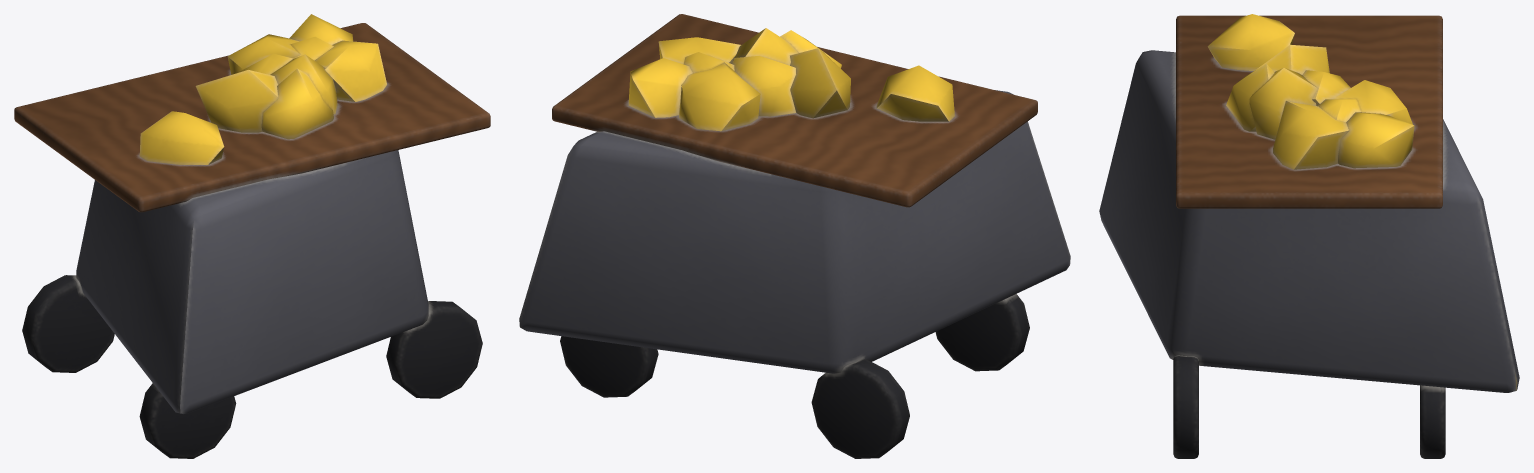
The model's file is rr_obstacle_mine_cart.glb.
3 views of the same model, side by side, from view 1: azimuth 30°, elevation 25°; view 2: azimuth 150°, elevation 25°; view 3: azimuth 270°, elevation 25° (orthographic). The views are drawn at different scales.
Visible parts, largest first — view 1: rr_obstacle_mine_cart; view 2: rr_obstacle_mine_cart; view 3: rr_obstacle_mine_cart.
Part boxes in pixels (x1,y1,x2,y2): rr_obstacle_mine_cart: (14, 14, 490, 458); rr_obstacle_mine_cart: (519, 14, 1070, 458); rr_obstacle_mine_cart: (1099, 14, 1519, 458).
Size of the model in its own units: 2 by 1.78 by 1.97.
4 materials, 4 textured.
